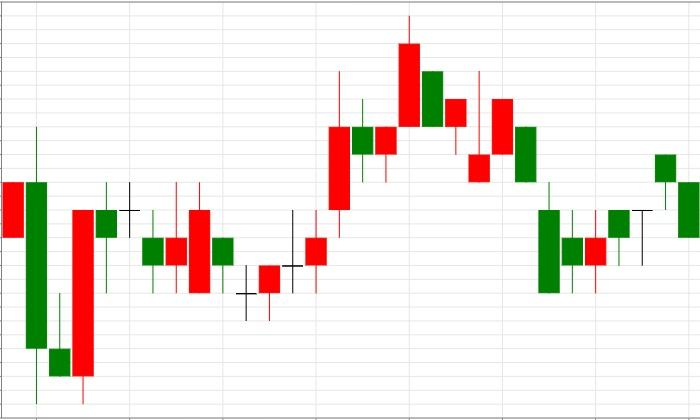bullish_engulfing_rise: (3, 126, 94, 405)
